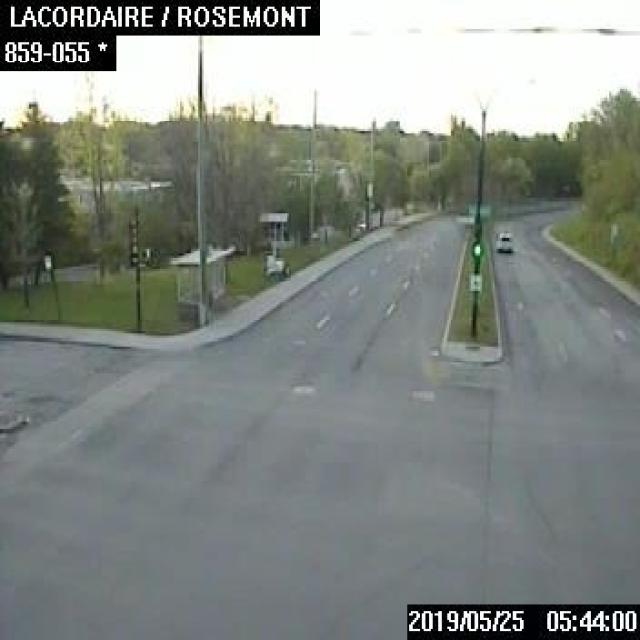construction: (256, 210, 288, 276)
vehicle: (494, 230, 510, 250)
